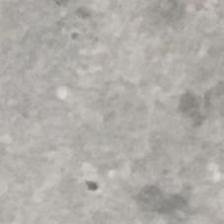Non_Crack: (12, 26, 220, 192)
